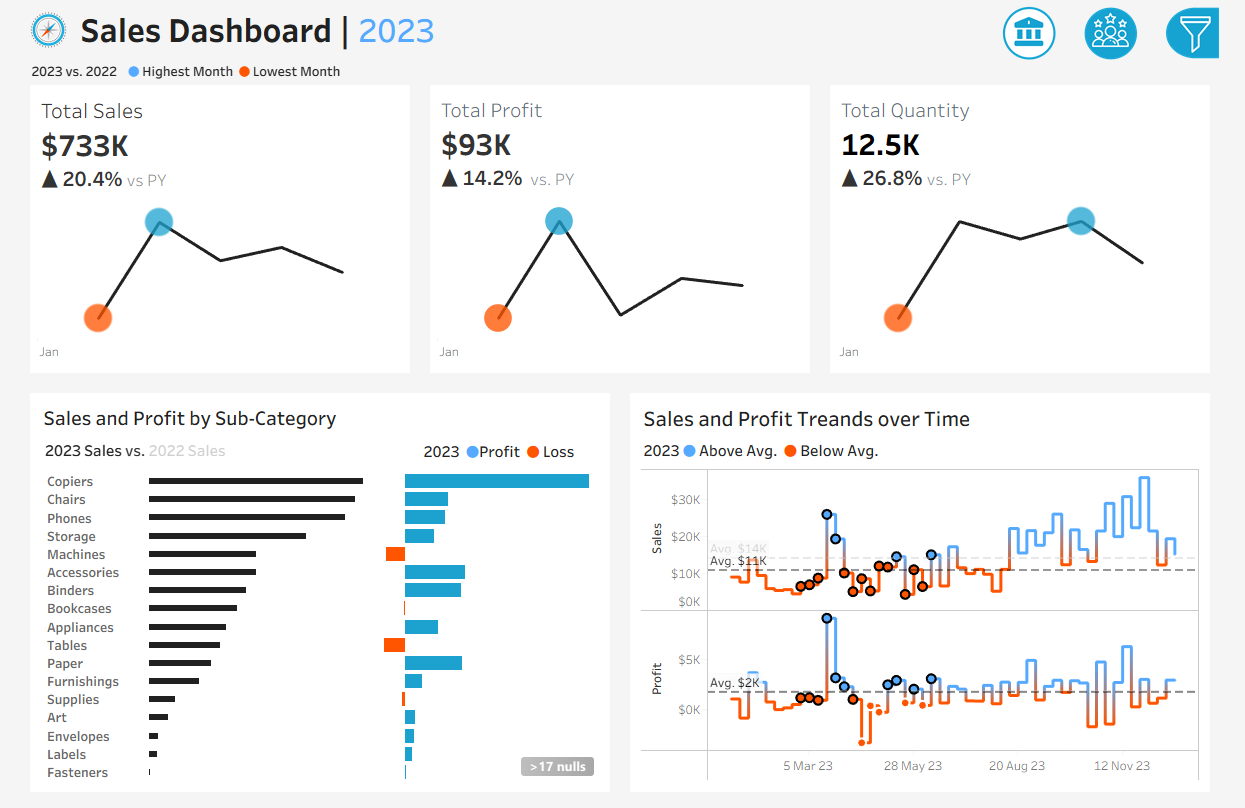

This screenshot's page, from the dashboard's own definition file:
{"tool":"tableau","page":{"name":"Sales Dashboard","canvas":[1200,800],"ordinal":1},"visuals":[{"type":"image","param":"Image/Icon - Logo.png","box":[2,0,52,55]},{"type":"text","box":[54,0,930,55]},{"type":"dashboard-object","box":[969,0,81,62]},{"type":"dashboard-object","box":[1050,0,81,62]},{"type":"blank","box":[978,5,215,80]},{"type":"worksheet","title":"Legend of KPI","mark":"Automatic","box":[0,55,1200,28]},{"type":"worksheet","title":"KPI Sales","mark":"Line","rows":["Calculation_0787825631051776"],"cols":["Order Date"],"box":[0,83,400,298]},{"type":"worksheet","title":"KPI Profit","mark":"Automatic","rows":["Calculation_0376338495287297"],"cols":["Order Date"],"box":[400,83,400,298]},{"type":"worksheet","title":"KPI Quantity","mark":"Automatic","rows":["Calculation_0591293386543109"],"cols":["Order Date"],"box":[800,83,400,298]},{"type":"text","box":[978,85,215,32]},{"type":"parameter","param":"[Parameters].[Parameter 1018997670502403]","box":[978,117,215,63]},{"type":"blank","box":[978,180,215,45]},{"type":"text","box":[978,225,215,29]},{"type":"filter","title":"KPI Sales","param":"[federated.0a49qa90tgosyq102g3m016yynfo].[none:Category:nk]","box":[978,254,215,52]},{"type":"filter","title":"KPI Sales","param":"[federated.0a49qa90tgosyq102g3m016yynfo].[none:Sub-Category:nk]","box":[978,306,215,52]},{"type":"blank","box":[978,358,215,42]},{"type":"text","box":[17,398,566,34]},{"type":"text","box":[617,398,566,36]},{"type":"text","box":[978,400,215,38]},{"type":"worksheet","title":"Legend of Sub-Category","mark":"Automatic","box":[17,432,380,34]},{"type":"text","box":[397,432,186,34]},{"type":"text","box":[617,434,566,29]},{"type":"filter","title":"KPI Sales","param":"[federated.0a49qa90tgosyq102g3m016yynfo].[none:Region:nk]","box":[978,438,215,52]},{"type":"worksheet","title":"Weekly Trends","mark":"Automatic","rows":["Calculation_1018997668982784","Calculation_0606411282939905"],"cols":["Order Date"],"box":[617,463,566,320]},{"type":"worksheet","title":"Category Comparison","mark":"Bar","rows":["Sub-Category","Calculation_0218833958481920"],"cols":["Calculation_1018997669982209","Calculation_1018997668982784","Calculation_0606411282939905"],"box":[17,466,566,316.9]},{"type":"filter","title":"KPI Sales","param":"[federated.0a49qa90tgosyq102g3m016yynfo].[none:State:nk]","box":[978,490,215,52]},{"type":"filter","title":"KPI Sales","param":"[federated.0a49qa90tgosyq102g3m016yynfo].[none:City:nk]","box":[978,542,215,52]}]}

Visuals, with their boxes in screenshot pixels (x1, y1, x2, y2), scaled from the page's 1200x800 canvas onto the 1245x808 screenshot:
image: 2:0:56:56
text: 56:0:1021:56
dashboard-object: 1005:0:1089:63
dashboard-object: 1089:0:1173:63
blank: 1015:5:1238:86
"Legend of KPI" worksheet: 0:56:1244:84
"KPI Sales" worksheet (Line marks): 0:84:415:385
"KPI Profit" worksheet: 415:84:830:385
"KPI Quantity" worksheet: 830:84:1244:385
text: 1015:86:1238:118
parameter: 1015:118:1238:182
blank: 1015:182:1238:227
text: 1015:227:1238:257
"KPI Sales" filter: 1015:257:1238:309
"KPI Sales" filter: 1015:309:1238:362
blank: 1015:362:1238:404
text: 18:402:605:436
text: 640:402:1227:438
text: 1015:404:1238:442
"Legend of Sub-Category" worksheet: 18:436:412:471
text: 412:436:605:471
text: 640:438:1227:468
"KPI Sales" filter: 1015:442:1238:495
"Weekly Trends" worksheet: 640:468:1227:791
"Category Comparison" worksheet (Bar marks): 18:471:605:791
"KPI Sales" filter: 1015:495:1238:547
"KPI Sales" filter: 1015:547:1238:600
